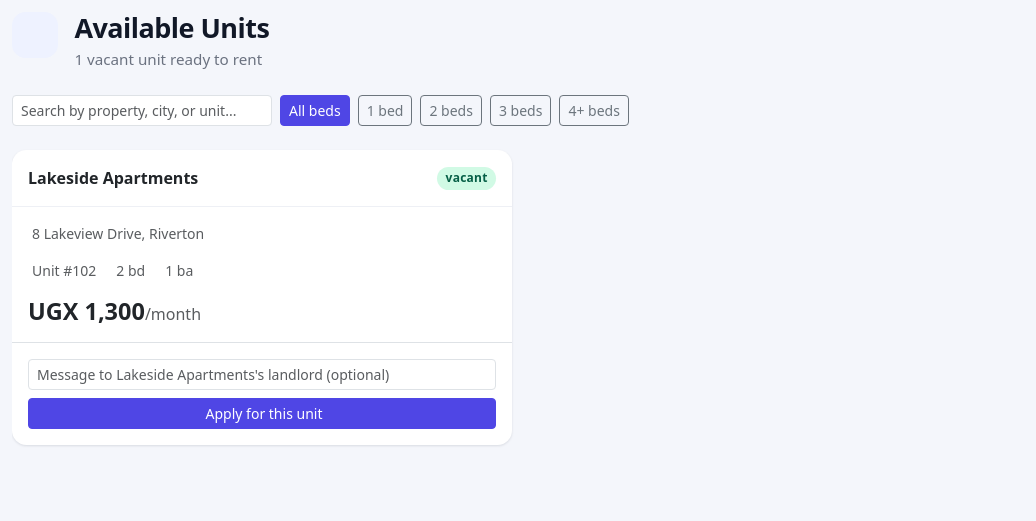
Test case: BrowseUnits › shows a friendly error when applying fails and keeps the message
The width and height of the screenshot is (1036, 521).
In the field with placeholder "Message to Lakeside Apartments's landlord (optional)": coordinates (262, 375) [28,359,496,390], type "again!"
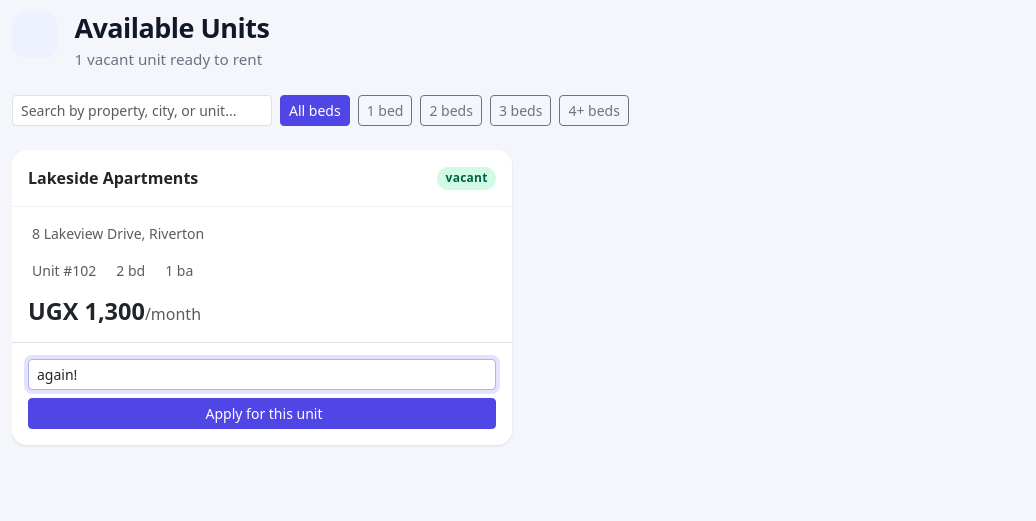
Click the button "Apply for this unit": coordinates (262, 414) [28,398,496,429]
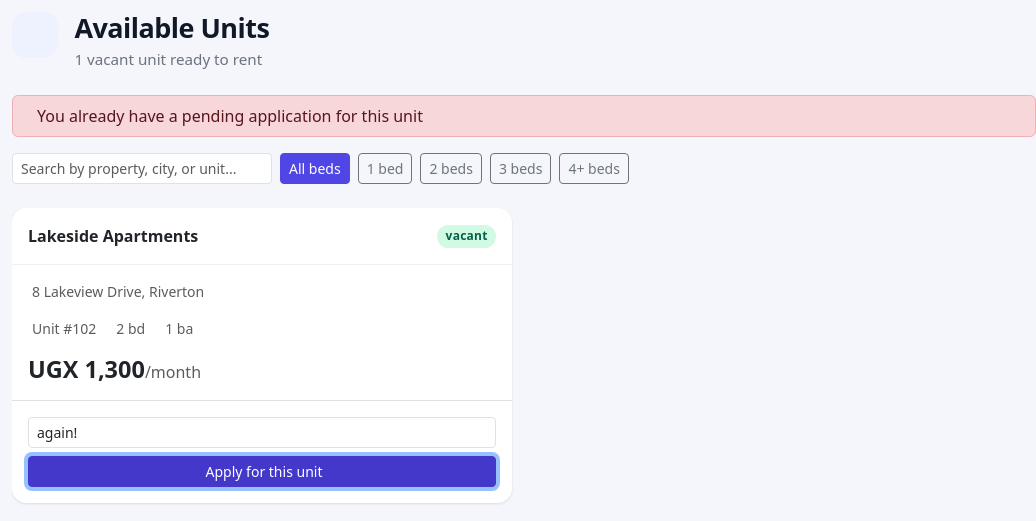
expect the text "You already have a pending application for this unit" is shown: met, box [37,104,423,128]
